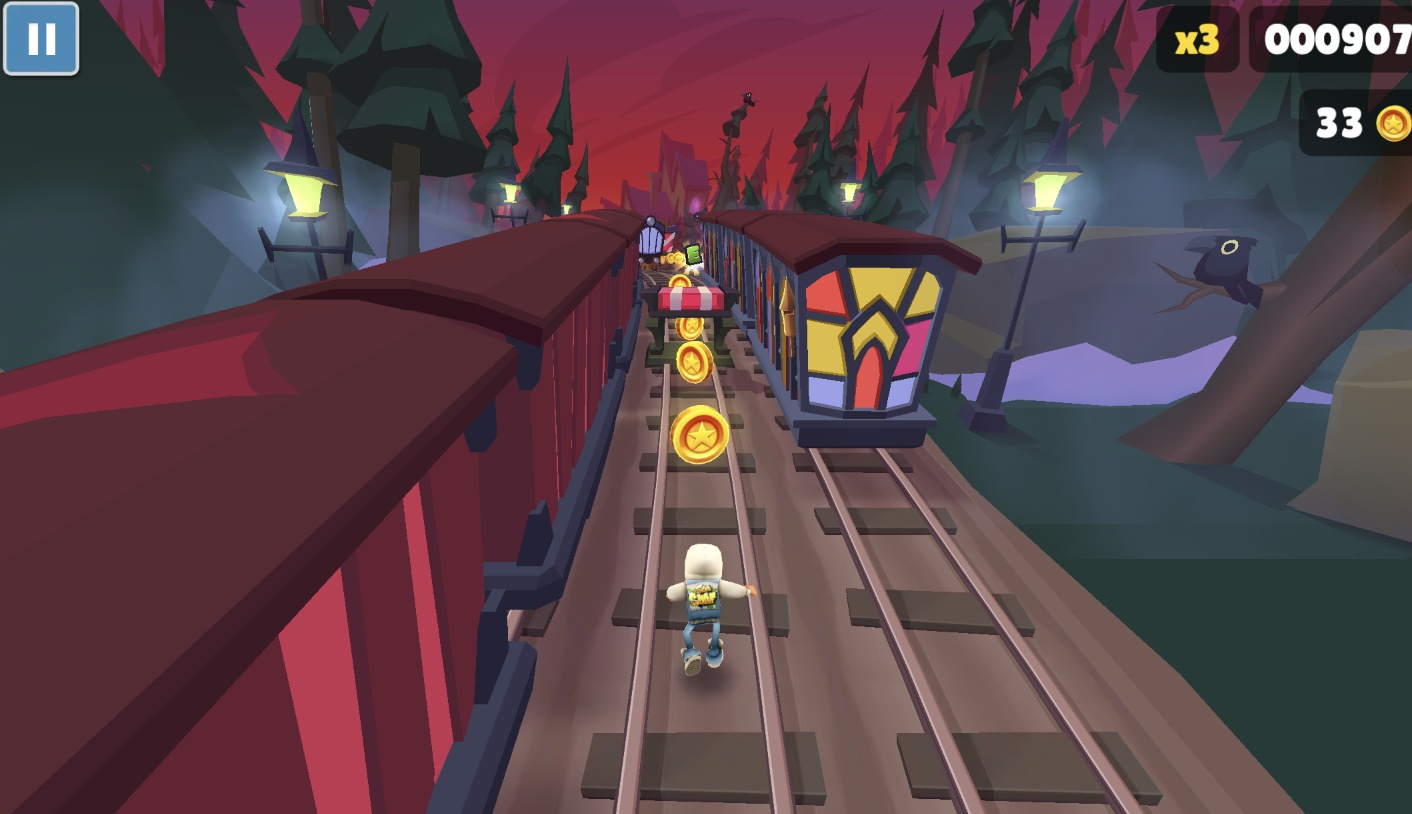ground_barrier: (639, 283, 739, 368)
overhead_barrier: (665, 217, 687, 263)
train: (0, 220, 650, 814), (695, 220, 1009, 489), (639, 221, 678, 273)
